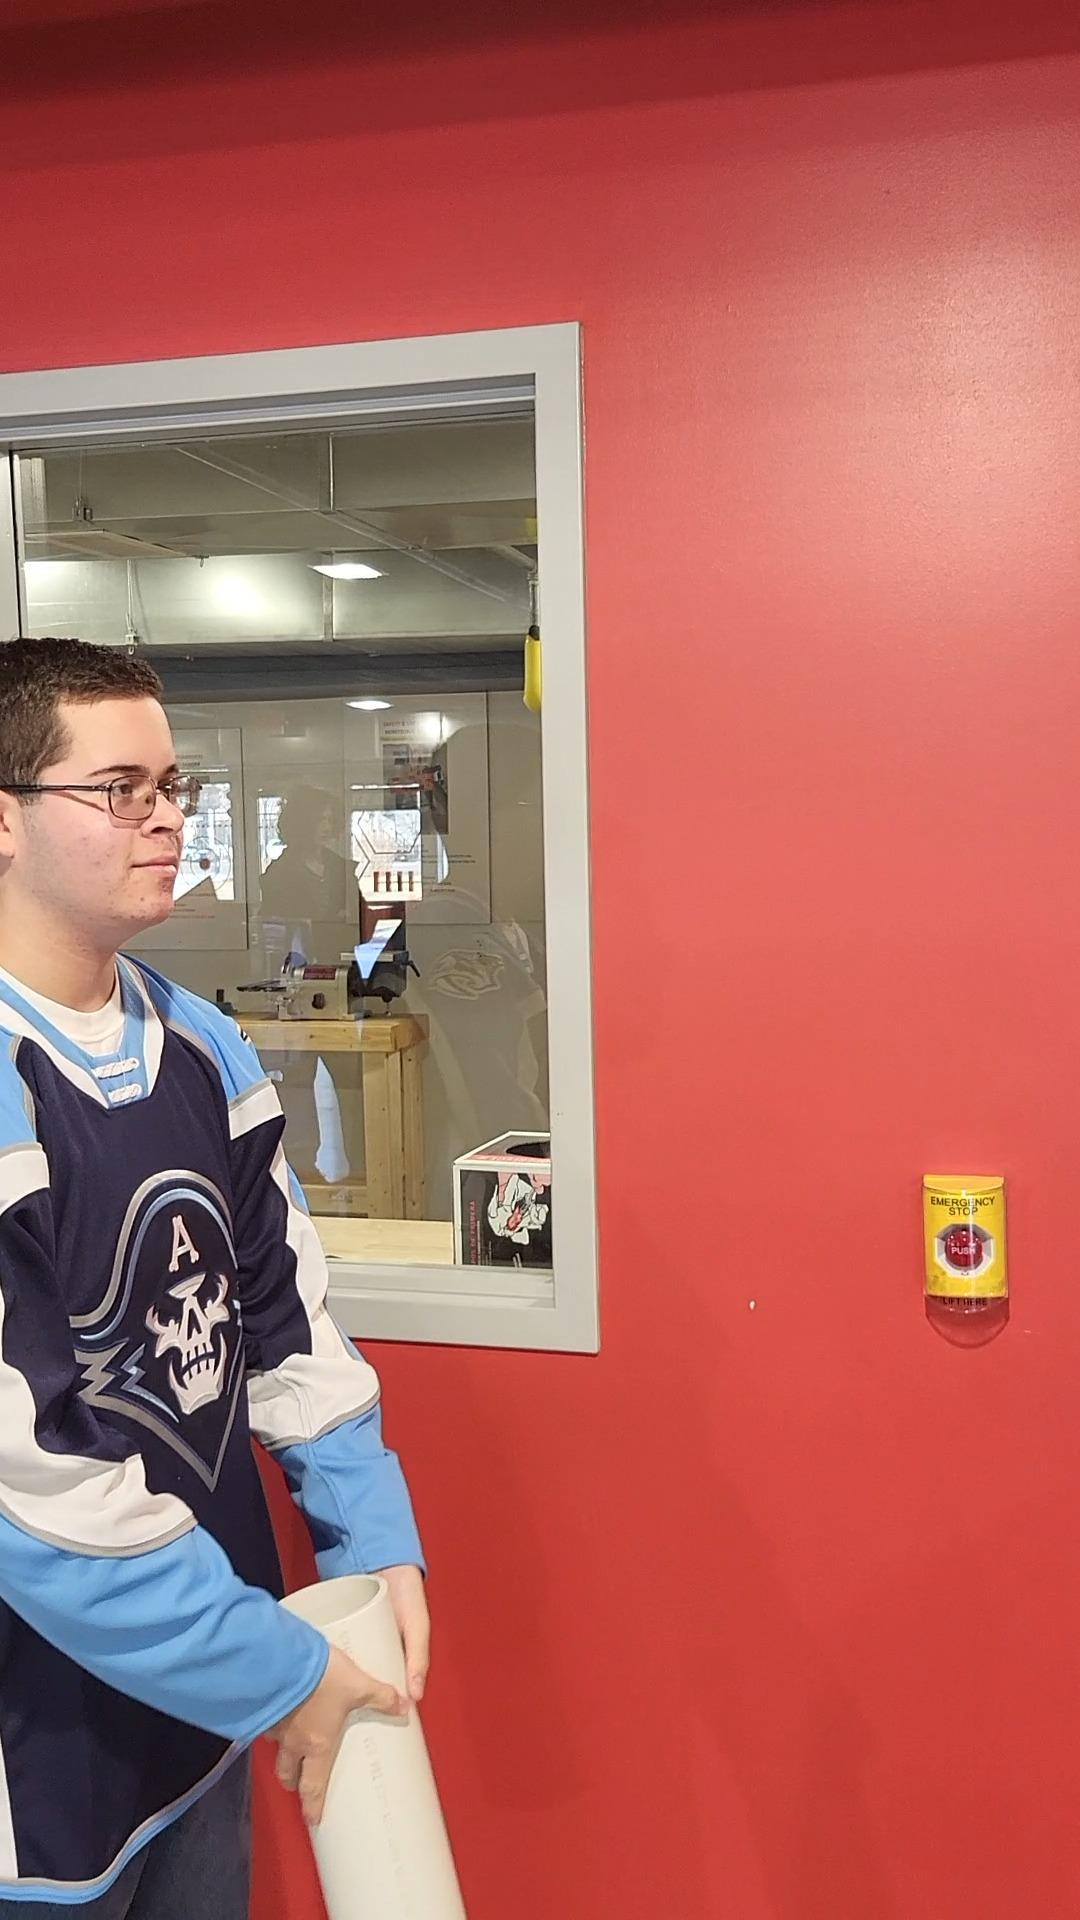coral: (266, 1573, 476, 1920)
